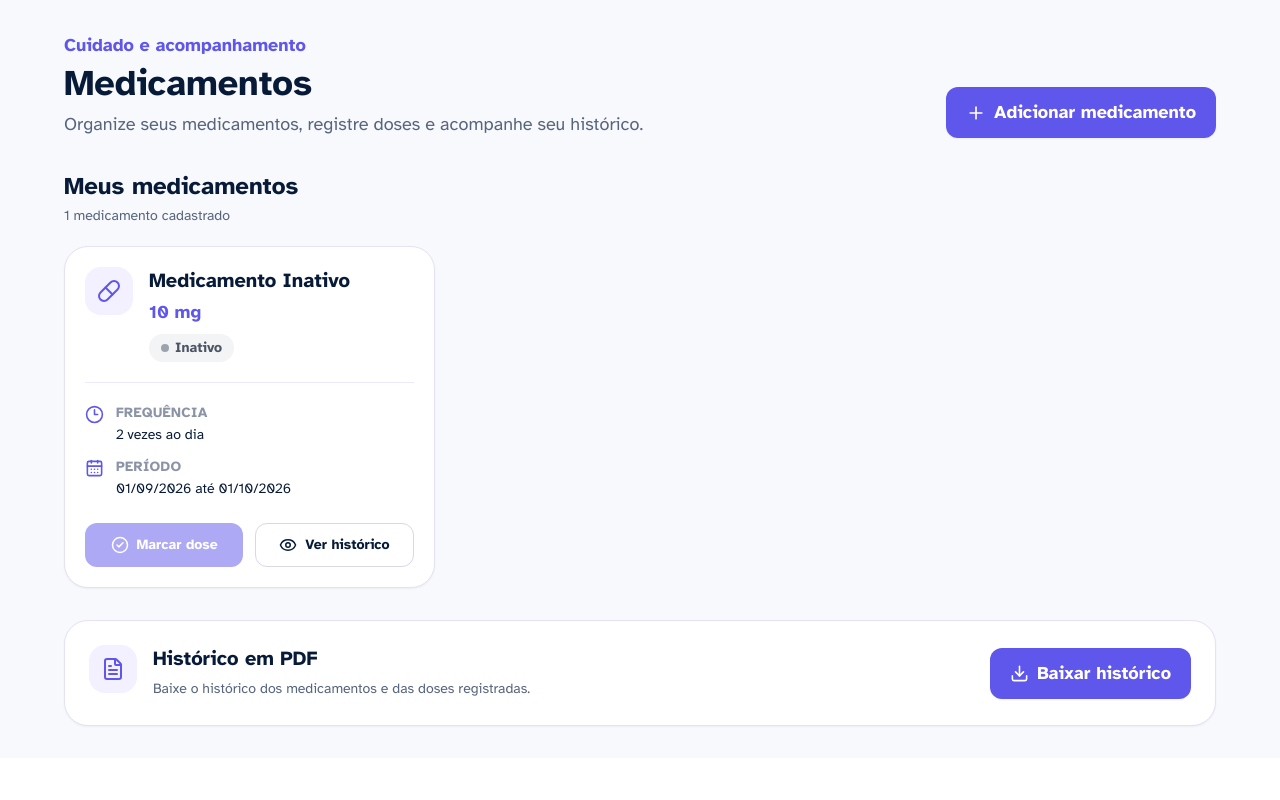
Test: Remedios - histórico › mostra estado vazio quando medicamento não possui doses
Click the button "Ver histórico": (334, 545) [255,523,414,567]
(page scrolled)
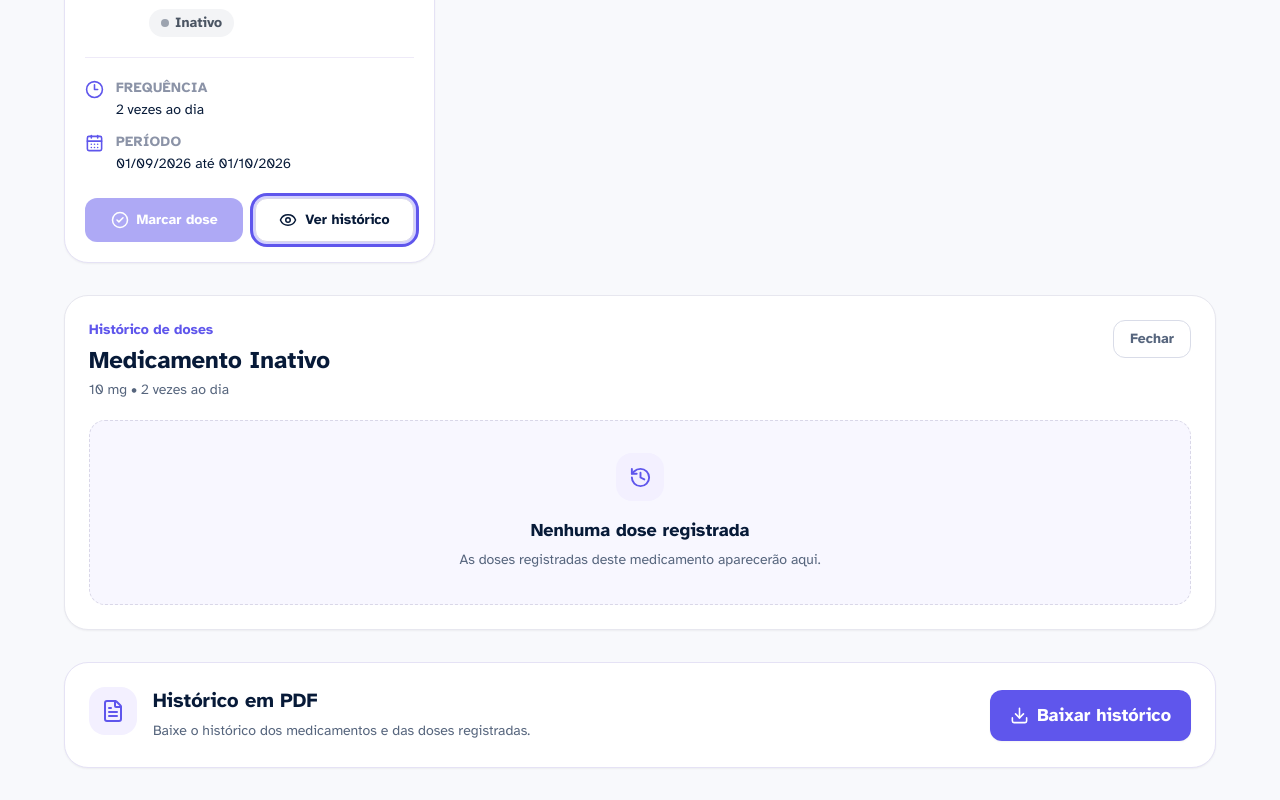
Expected: the text "Nenhuma dose registrada" is shown, [531,519,749,541]
